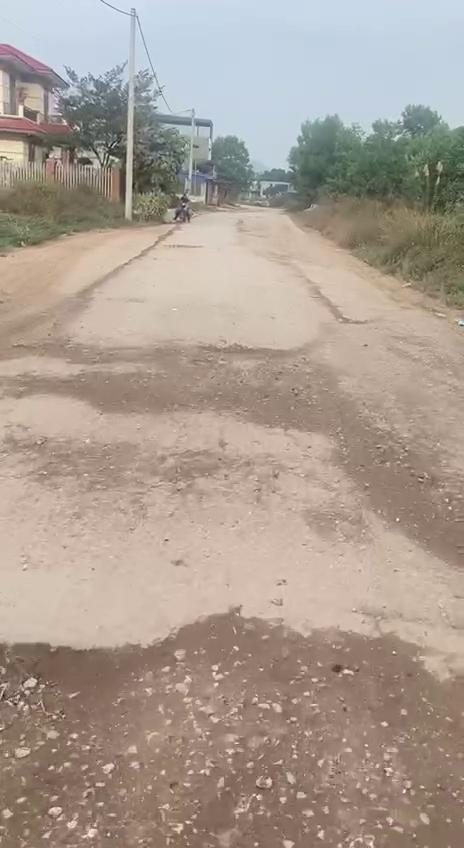pothole: (0, 614, 457, 848)
